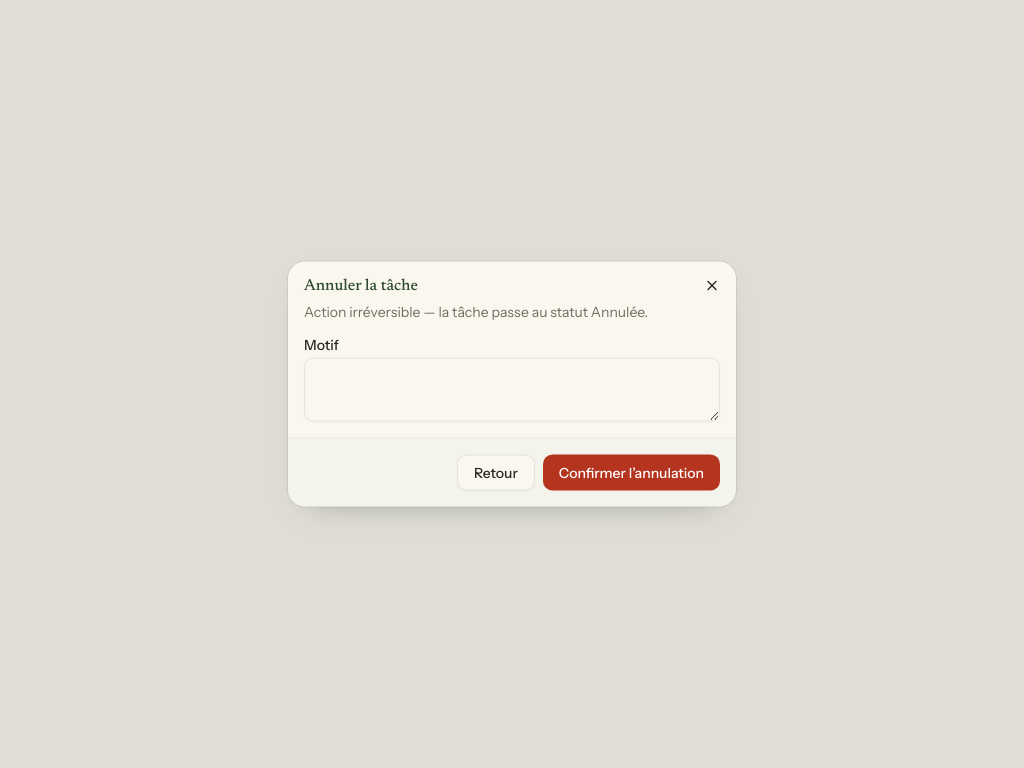
Test: CancelEmployeeTaskDialog › refuse la soumission sans motif (motif obligatoire, règle UI Lot 6c)
Click the button "Confirmer l’annulation" at {"x": 631, "y": 472}, box top-left (543, 454), bottom-right (720, 490)
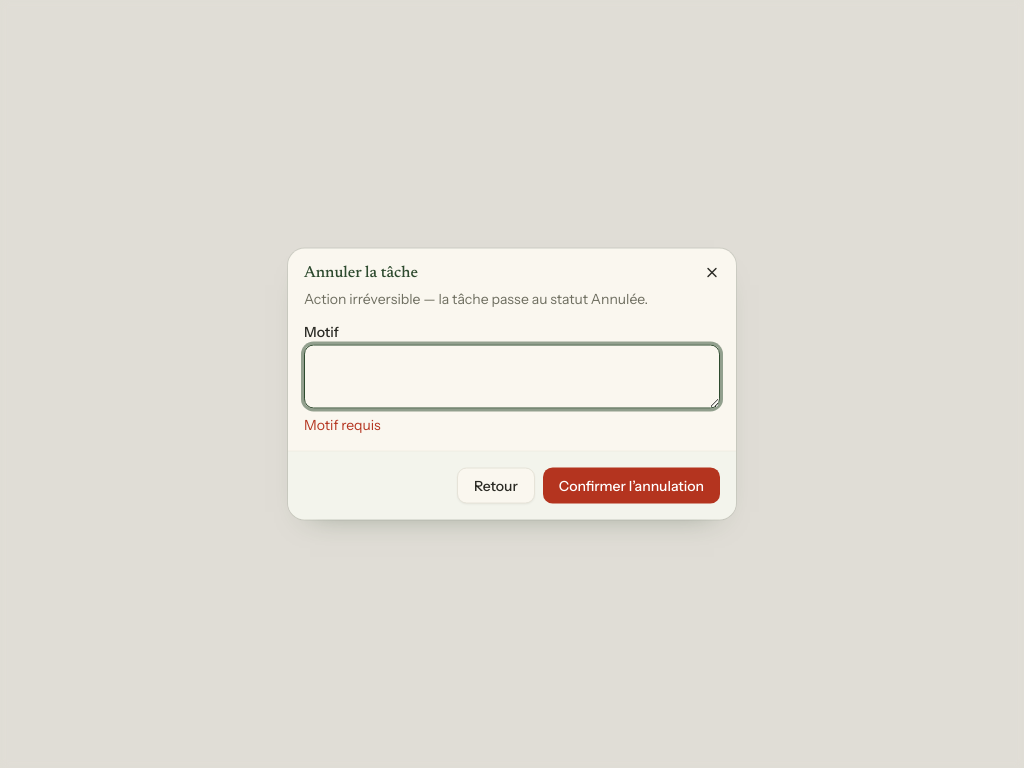
Expected: the text "Motif requis" is shown, top-left (304, 416), bottom-right (381, 434)
